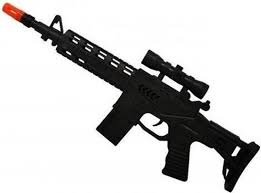Arma Falsa: (1, 1, 261, 185)
